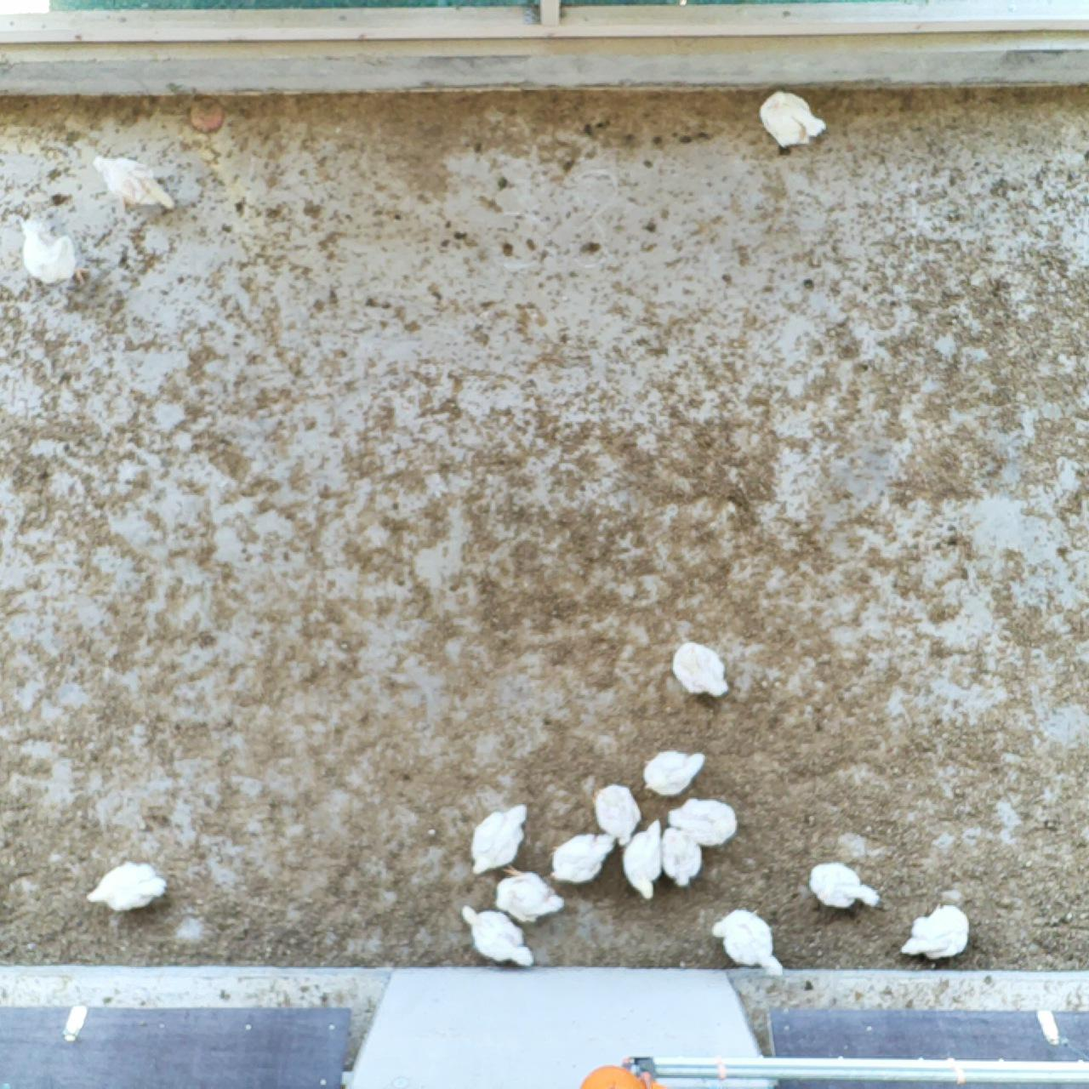chicken: (14, 217, 95, 294), (89, 149, 180, 216), (710, 907, 788, 981), (457, 902, 539, 971), (84, 855, 169, 915), (490, 862, 566, 928), (468, 802, 532, 880), (900, 899, 972, 965), (757, 86, 828, 152), (806, 856, 882, 915), (664, 797, 742, 849), (619, 816, 666, 901), (670, 636, 731, 701), (547, 831, 617, 887), (640, 746, 711, 800), (591, 781, 646, 849), (660, 824, 706, 889)
